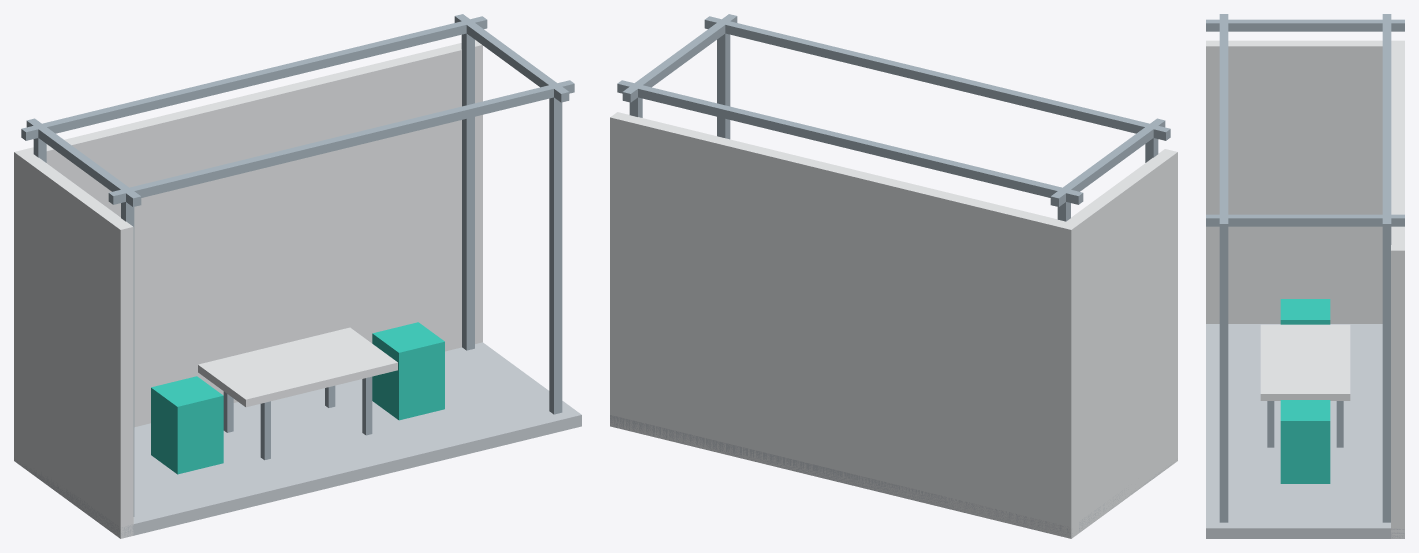
3 views of the same model, side by side, from view 1: azimuth 30°, elevation 25°; view 2: azimuth 150°, elevation 25°; view 3: azimuth 270°, elevation 25° (orthographic). The views are drawn at different scales.
Visible parts, largest first — view 1: Exhibition Booth Concept; view 2: Exhibition Booth Concept; view 3: Exhibition Booth Concept.
Part boxes in pixels (left/top/right/bottom): Exhibition Booth Concept: left=14, top=14, right=581, bottom=538; Exhibition Booth Concept: left=610, top=14, right=1177, bottom=538; Exhibition Booth Concept: left=1206, top=14, right=1404, bottom=538.
Bounding box in the file's own units: 5 × 3.49 × 2.
